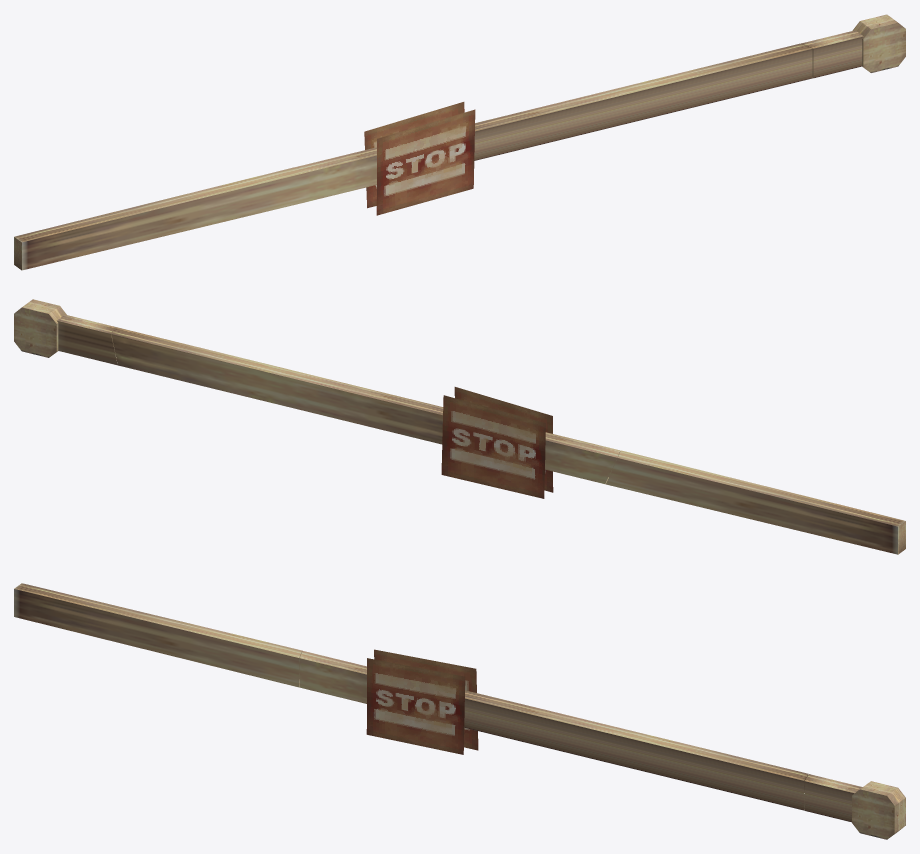
The model's file is C2SMCHECKBARRIERH.obj.
3 renders of one model, top to bottom at view 1: azimuth 30°, elevation 25°; view 2: azimuth 150°, elevation 25°; view 3: azimuth 330°, elevation 25°, orthographic.
Visible parts, largest first — view 1: Node 3, Node 1, Node 5, Node 2; view 2: Node 3, Node 1, Node 2, Node 5; view 3: Node 3, Node 1, Node 5, Node 2.
Boxes of the visible parts, left/top/right/bottom form: Node 3: left=376, top=43, right=812, bottom=215; Node 1: left=14, top=167, right=307, bottom=270; Node 5: left=801, top=14, right=905, bottom=78; Node 2: left=294, top=102, right=464, bottom=208; Node 3: left=111, top=327, right=553, bottom=492; Node 1: left=606, top=450, right=905, bottom=554; Node 2: left=441, top=395, right=620, bottom=498; Node 5: left=14, top=299, right=117, bottom=365; Node 3: left=366, top=658, right=808, bottom=810; Node 1: left=14, top=583, right=302, bottom=687; Node 5: left=804, top=774, right=905, bottom=839; Node 2: left=299, top=649, right=478, bottom=750.
Size of what is drawn, in the model's own units: 27.3 by 2.43 by 0.6203.
Materials: 6 (6 with a texture image).
